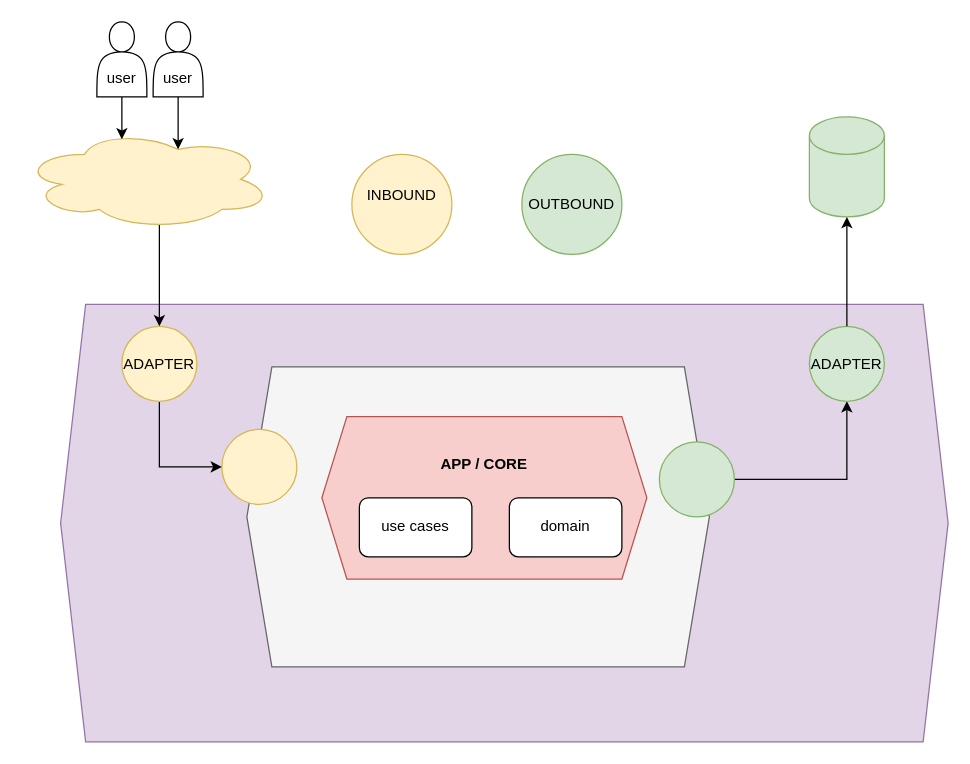
This 970x764 diagram has some shape labels left out. Each missing label, with the centre of its shape:
"postgresql" goes at (846,166).
"repository PORT" goes at (696,479).
"REST API" goes at (146,178).
"service PORT" goes at (259,466).
